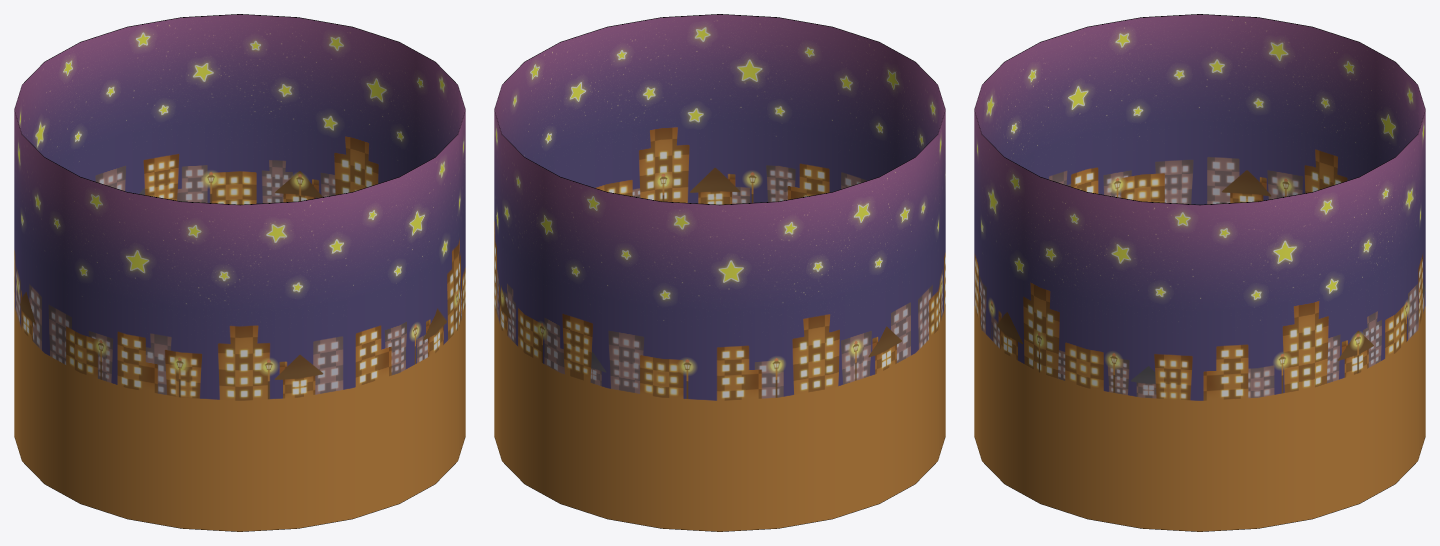
3 views of the same model, side by side, from view 1: azimuth 30°, elevation 25°; view 2: azimuth 150°, elevation 25°; view 3: azimuth 270°, elevation 25° (orthographic).
Parts seen in each view (by area): view 1: SB; view 2: SB; view 3: SB.
Boxes of the visible parts, x1,y1,x2,y2 form: SB: (14,14,465,531); SB: (494,14,945,531); SB: (974,14,1425,531).
Bounding box in the file's own units: 200 × 160 × 200.
